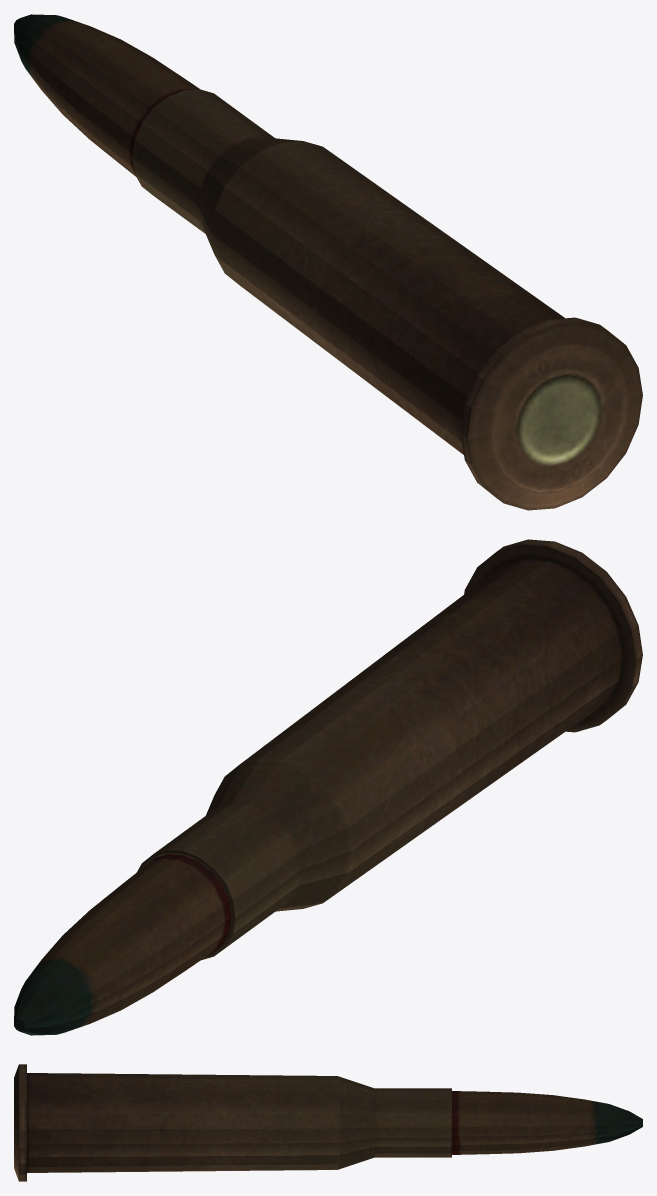
The picture shows the model from 3 angles, top to bottom: view 1: azimuth 30°, elevation 25°; view 2: azimuth 150°, elevation 25°; view 3: azimuth 270°, elevation 25°; orthographic projection. The views are drawn at different scales.
Parts seen in each view (by area): view 1: TW_5e023d34e8a400319a28ed44_PZ_Import; view 2: TW_5e023d34e8a400319a28ed44_PZ_Import; view 3: TW_5e023d34e8a400319a28ed44_PZ_Import.
Boxes of the visible parts, x1,y1,x2,y2 form: TW_5e023d34e8a400319a28ed44_PZ_Import: (14,14,642,510); TW_5e023d34e8a400319a28ed44_PZ_Import: (14,539,642,1035); TW_5e023d34e8a400319a28ed44_PZ_Import: (14,1064,642,1181).
Bounding box in the file's own units: 0.00837 × 0.0446 × 0.00837.
1 material, 1 textured.
